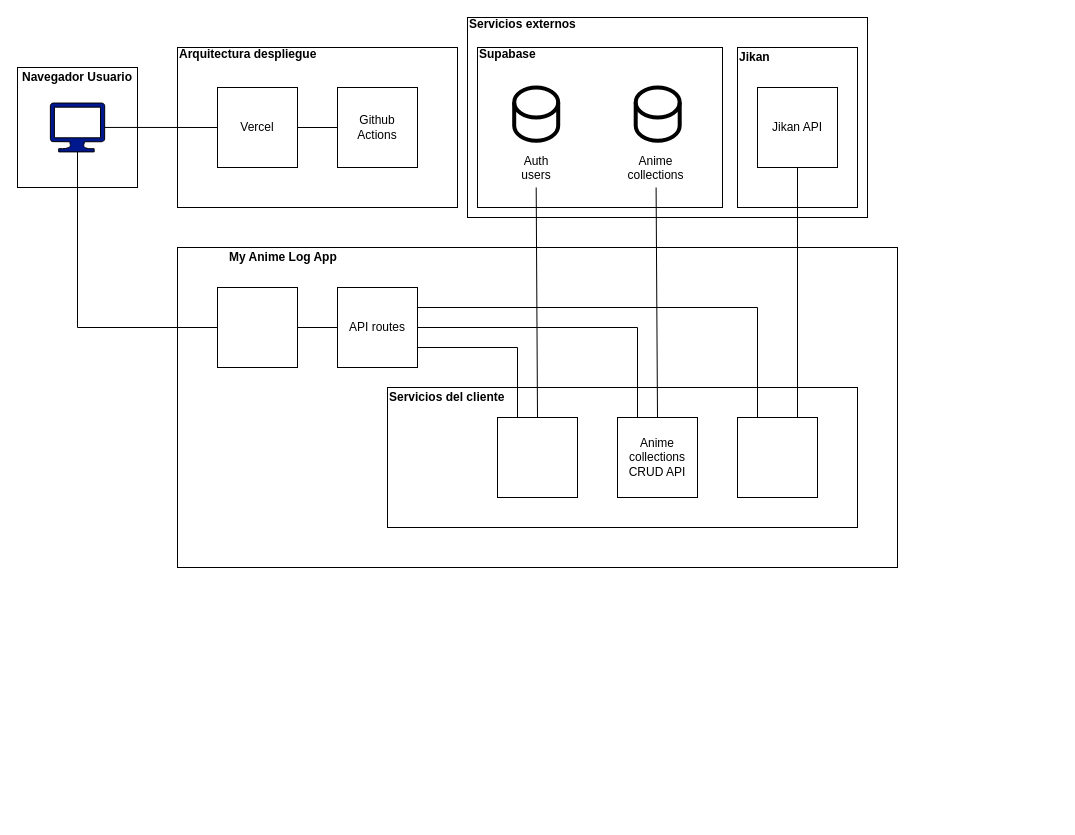
Some shapes in this 1075 by 835 pixel diagram are drawn without their labels. Here are the shapes that lost their labels. From the top down, the centre of each, then its label:
the point at 257,327: Paginas
the point at 537,457: Servicio Auth
the point at 777,457: Buscar animes
